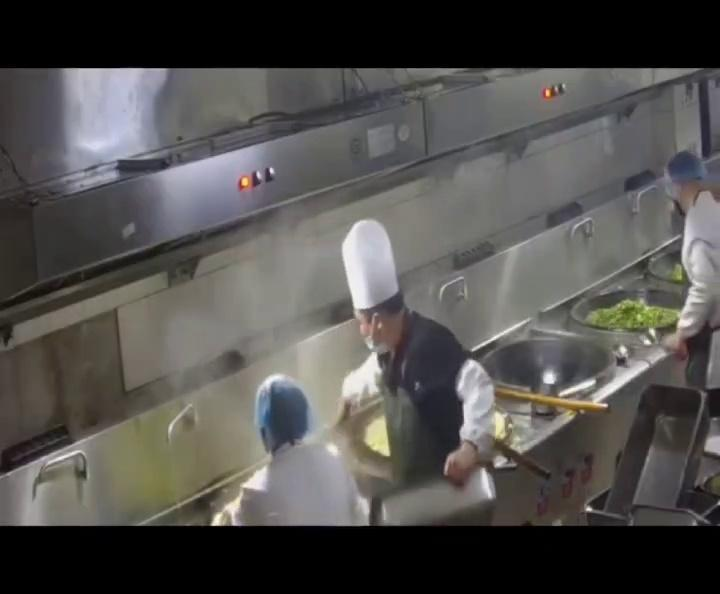mask: (357, 312, 397, 356)
